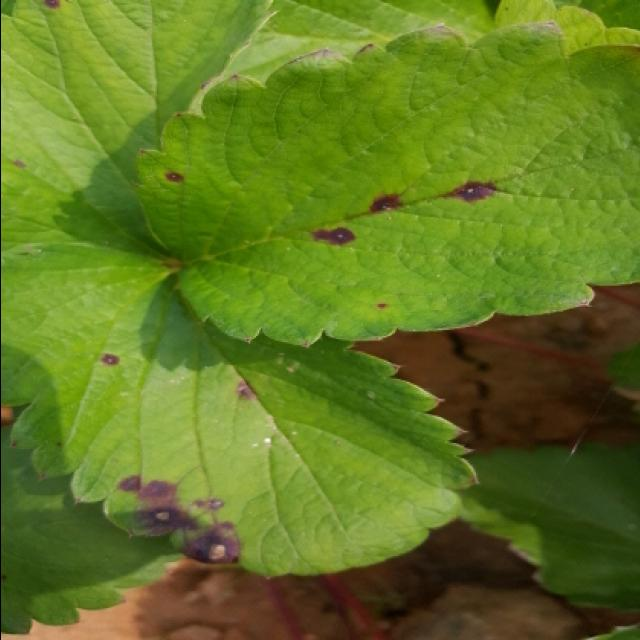Leaf Spot: (130, 17, 640, 349), (2, 238, 480, 580), (2, 0, 278, 266)
